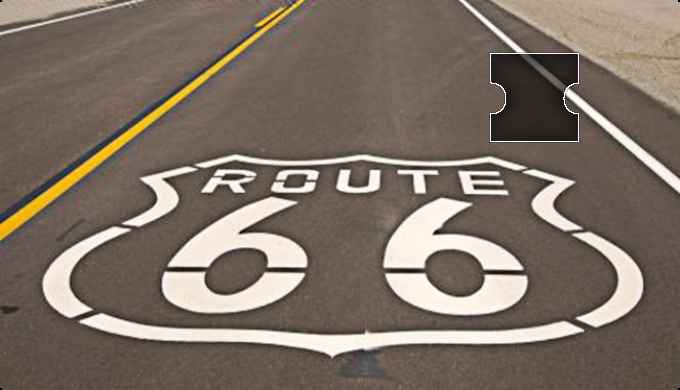gap: (492, 53, 578, 141)
